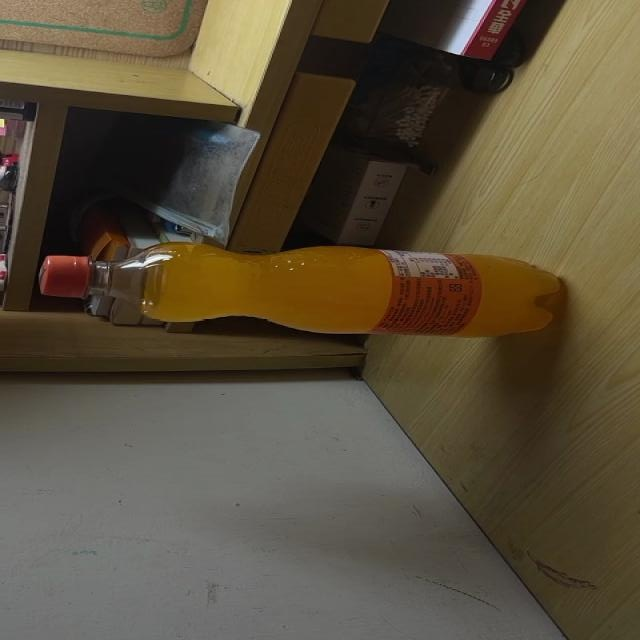Fanta: (40, 245, 564, 334)
